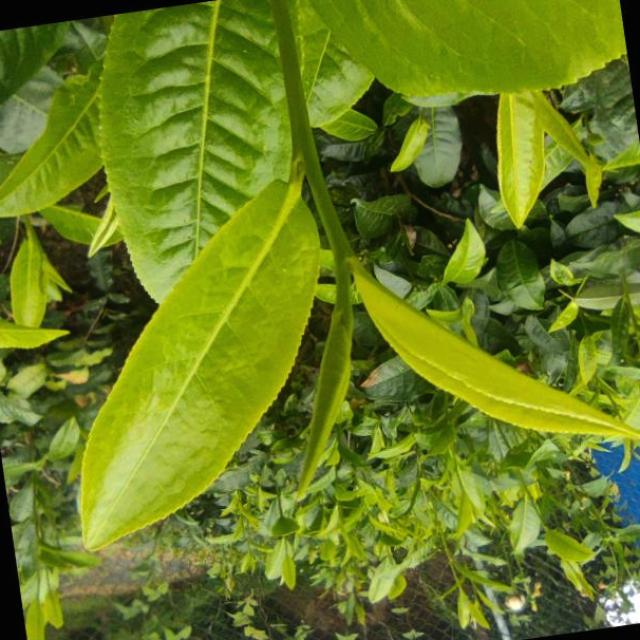Stem: (313, 193, 356, 256)
